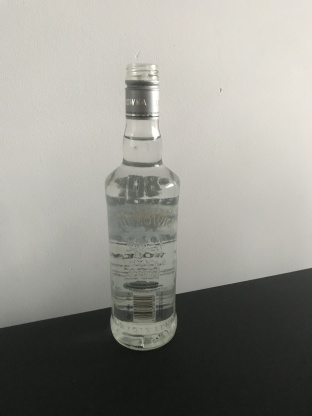nakretka: (123, 59, 161, 120)
